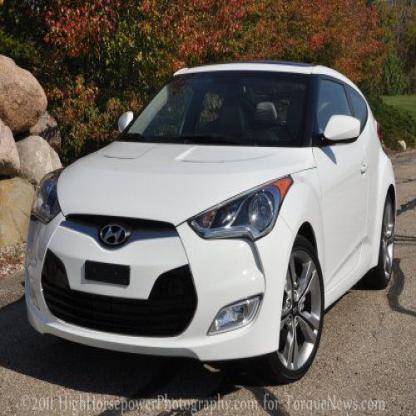Vehicle: (25, 60, 401, 388)
